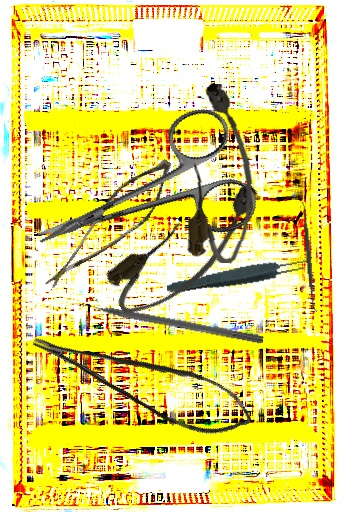Cannula: (98, 172, 280, 328), (186, 82, 259, 265)
Iris Scissors: (13, 99, 264, 295)
Micro Scissor: (28, 298, 261, 456), (43, 141, 181, 314)
Pusher: (70, 296, 265, 345)
Spatula Surgical: (298, 201, 320, 313)
Tissue Forceps: (165, 254, 311, 299)
